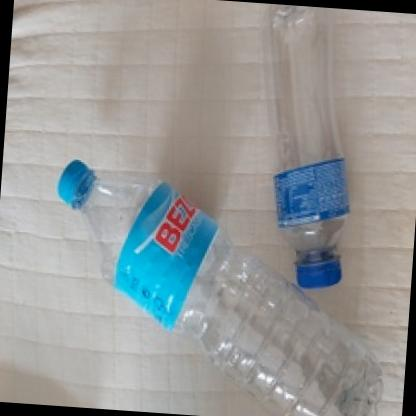plastic_bottles: (38, 157, 401, 416), (239, 3, 367, 298)
